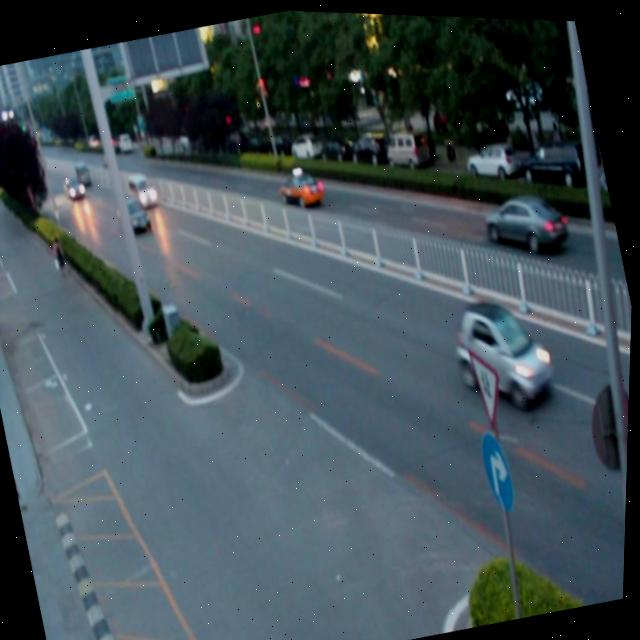car: (444, 283, 559, 415), (481, 180, 574, 260), (273, 163, 327, 213), (115, 192, 155, 236)
truck: (125, 166, 157, 208)
